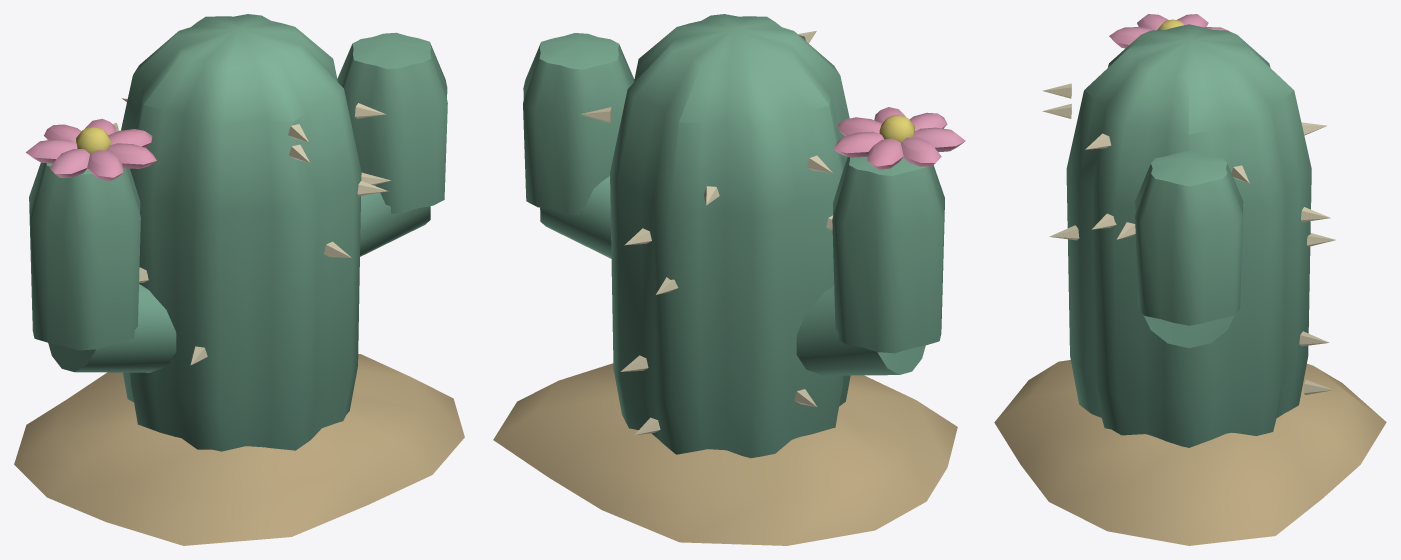
File: cen_tarhut_cacto_2.glb
The picture shows the model from 3 angles, left to right: view 1: azimuth 30°, elevation 25°; view 2: azimuth 150°, elevation 25°; view 3: azimuth 270°, elevation 25°; orthographic projection. The views are drawn at different scales.
Visible parts, largest first — view 1: cacto; view 2: cacto; view 3: cacto.
Boxes of the visible parts, <box> form: cacto: <box>14,14,464,545</box>; cacto: <box>493,14,965,545</box>; cacto: <box>994,14,1386,545</box>.
Bounding box in the file's own units: 1.43 × 1.42 × 1.2.
